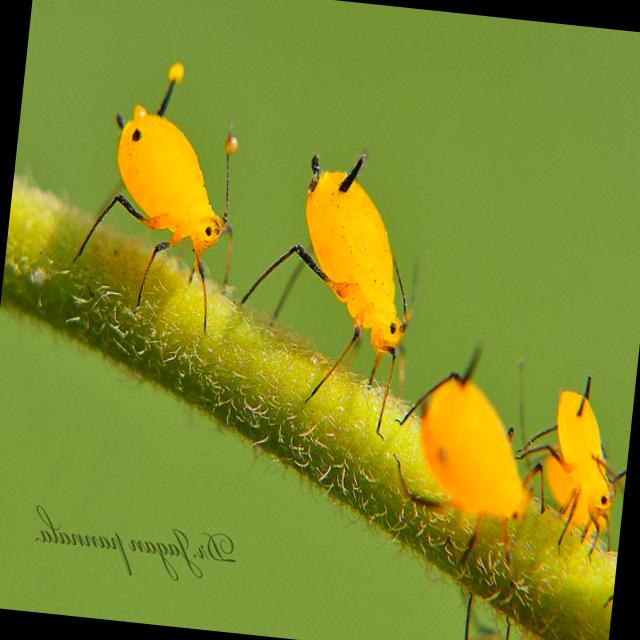Aphid: (215, 122, 475, 459), (47, 36, 246, 367), (391, 368, 541, 561), (502, 366, 630, 574)
